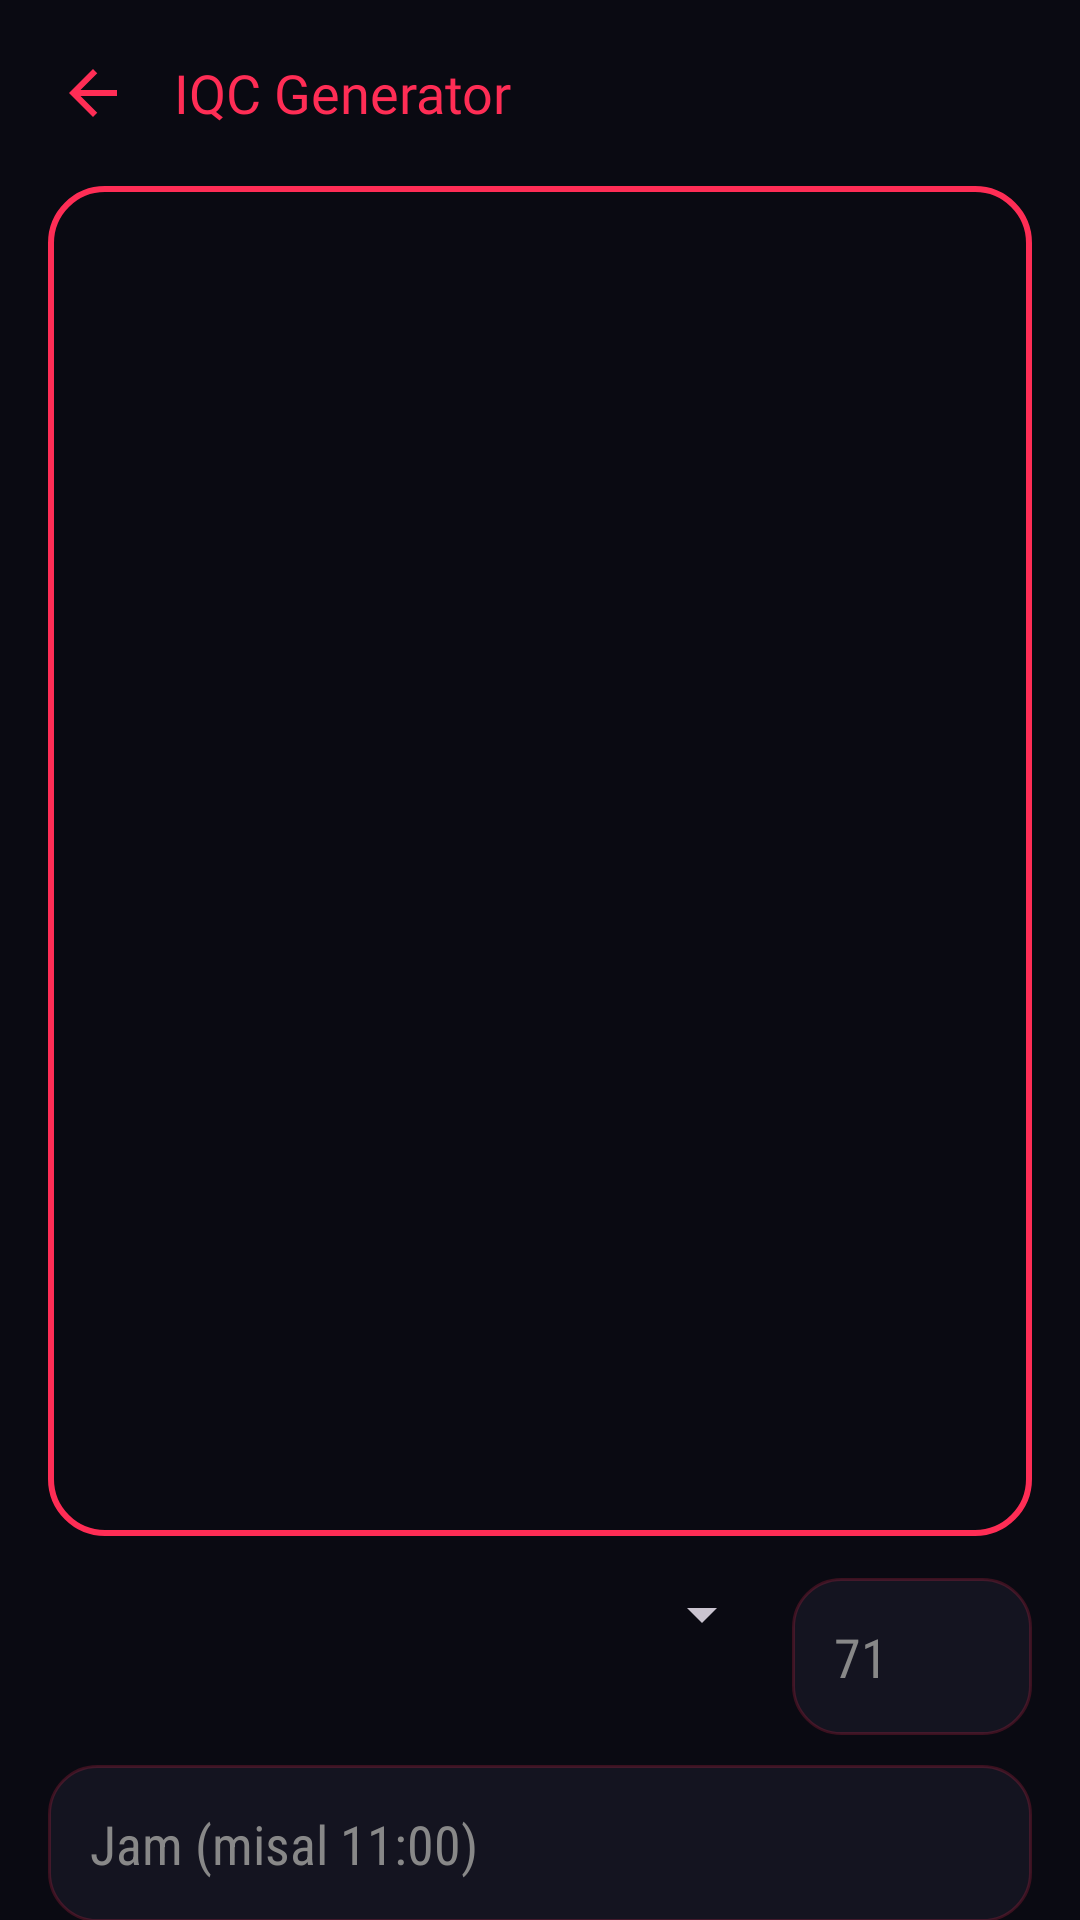

Point at icon controls on the screen. Image size 1080 x 1920, points as (x=x, y=y).
Back: (x=93, y=93)
